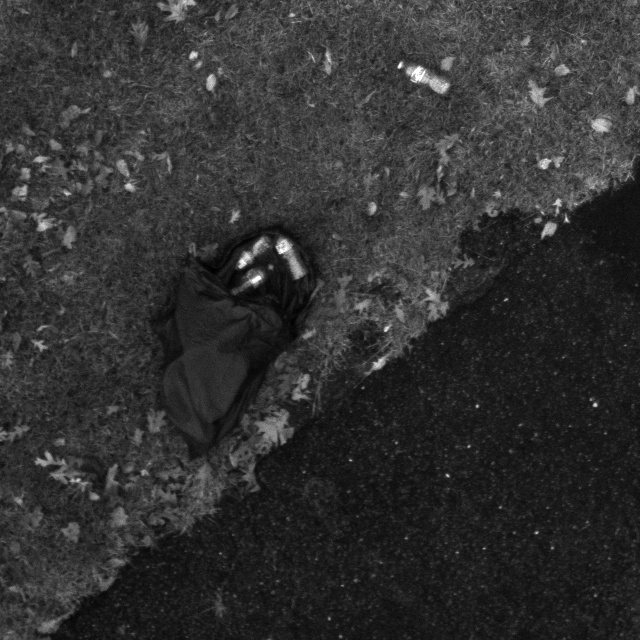bottle: (389, 48, 454, 102), (270, 228, 313, 283)
